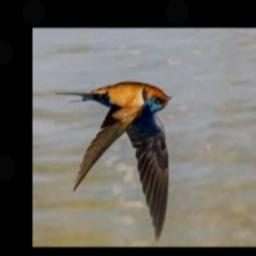Swallow: (55, 82, 172, 241)
